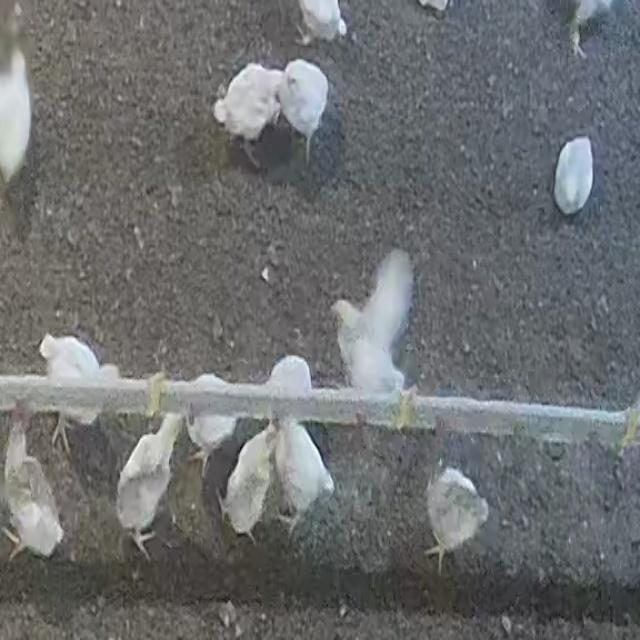chicken: (327, 247, 416, 398), (111, 404, 186, 560), (0, 423, 64, 559), (40, 331, 110, 438), (179, 372, 239, 470), (274, 421, 333, 520), (429, 468, 491, 562), (211, 64, 281, 146), (222, 432, 276, 537), (0, 49, 34, 182), (280, 59, 327, 149), (554, 138, 594, 216), (294, 0, 346, 48)
